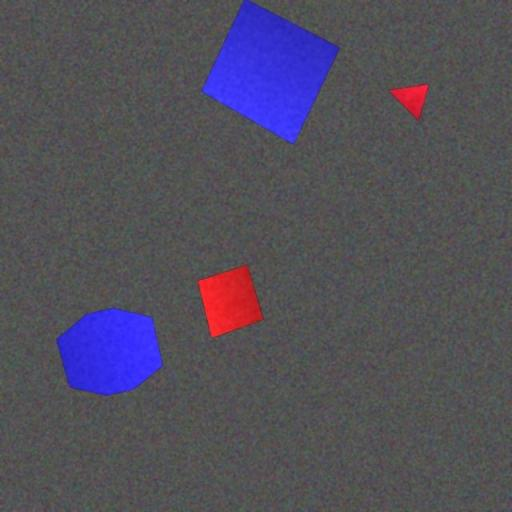BLUE_SQUARE: (201, 0, 341, 146)
RED_SQUARE: (197, 264, 264, 339)
